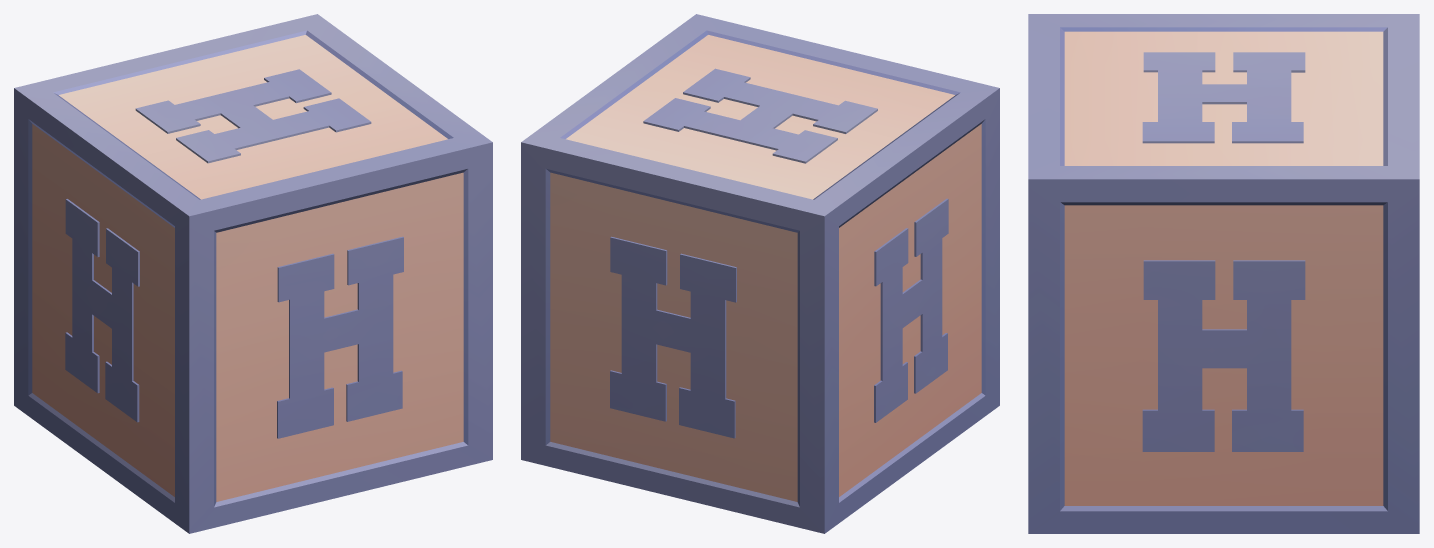
The model's file is Doll_OB_Blocks_008.FBX.
3 views of the same model, side by side, from view 1: azimuth 30°, elevation 25°; view 2: azimuth 150°, elevation 25°; view 3: azimuth 270°, elevation 25° (orthographic). The views are drawn at different scales.
Visible parts, largest first — view 1: Doll_OB_Blocks_008; view 2: Doll_OB_Blocks_008; view 3: Doll_OB_Blocks_008.
Boxes of the visible parts, x1=… form: Doll_OB_Blocks_008: x1=14, y1=14, x2=492, y2=533; Doll_OB_Blocks_008: x1=521, y1=14, x2=999, y2=533; Doll_OB_Blocks_008: x1=1028, y1=14, x2=1419, y2=533.
Bounding box in the file's own units: 20.66 × 20.66 × 20.66.
